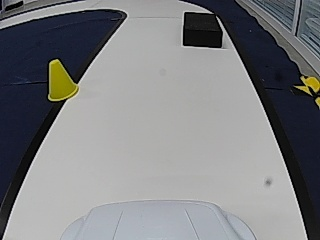block: (183, 12, 222, 47)
cone: (48, 60, 79, 100)
